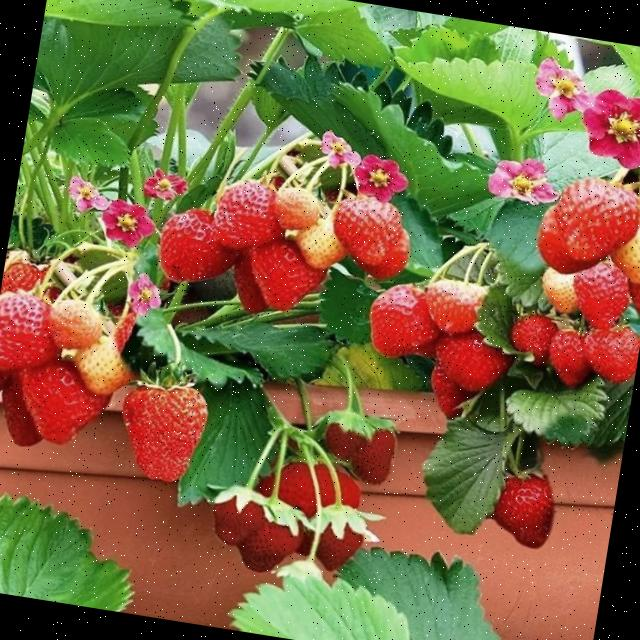Ripe Strawberry: (114, 374, 210, 488), (551, 168, 640, 273), (12, 362, 102, 452), (483, 472, 565, 558), (354, 282, 435, 369), (148, 200, 224, 280), (154, 213, 228, 288), (329, 192, 402, 264), (325, 190, 395, 264), (248, 252, 320, 320), (218, 170, 282, 246), (435, 334, 511, 398), (233, 516, 301, 584), (0, 279, 51, 365), (580, 328, 640, 389), (422, 274, 483, 332), (46, 300, 110, 354), (312, 520, 369, 580), (548, 331, 590, 393), (227, 268, 275, 320), (208, 494, 255, 546), (317, 412, 363, 464), (508, 314, 554, 364), (420, 364, 463, 416), (0, 382, 33, 447), (362, 428, 398, 486), (5, 248, 47, 294), (420, 360, 442, 395), (208, 277, 222, 291)
